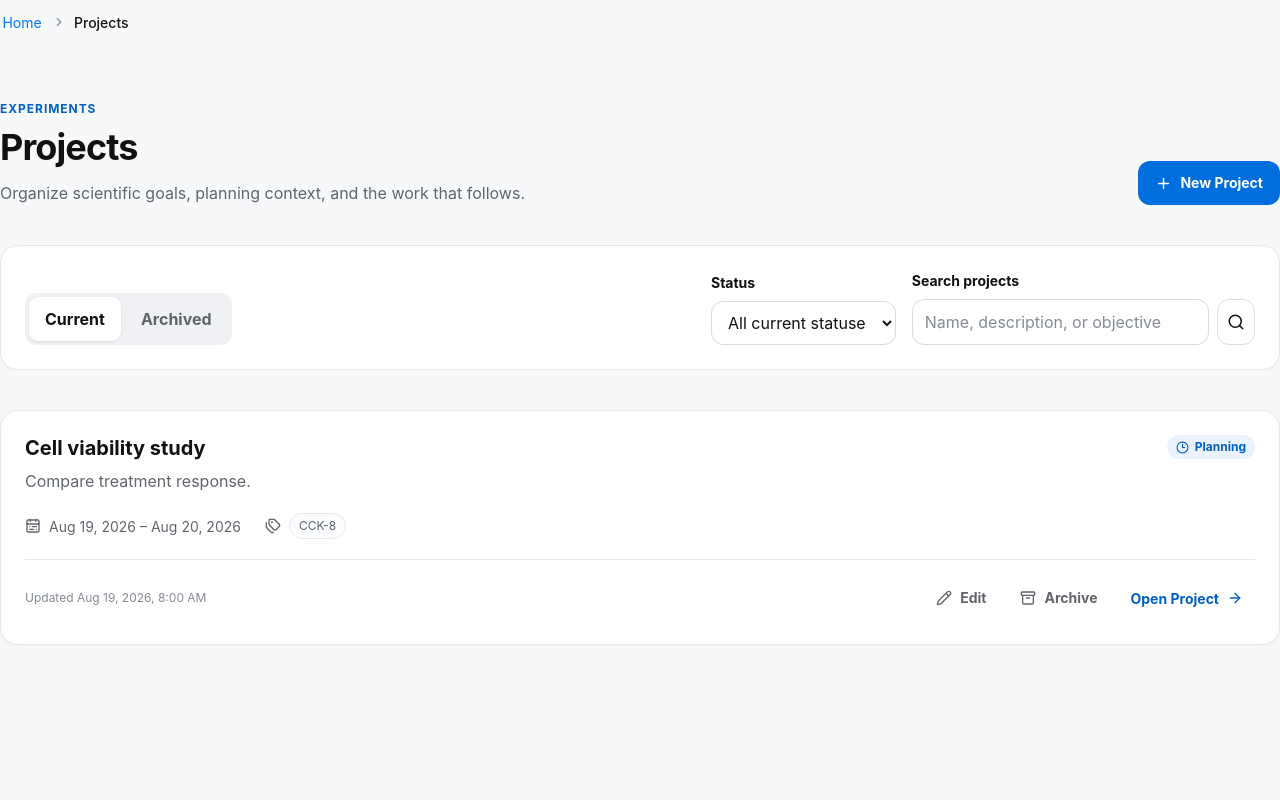
Test: ProjectsPage › edits a Project with its current revision
Expected: the heading "Cell viability study" is shown, left=25, top=435, right=206, bottom=461
Click the button "Edit": {"x": 961, "y": 598} left=923, top=576, right=1000, bottom=620
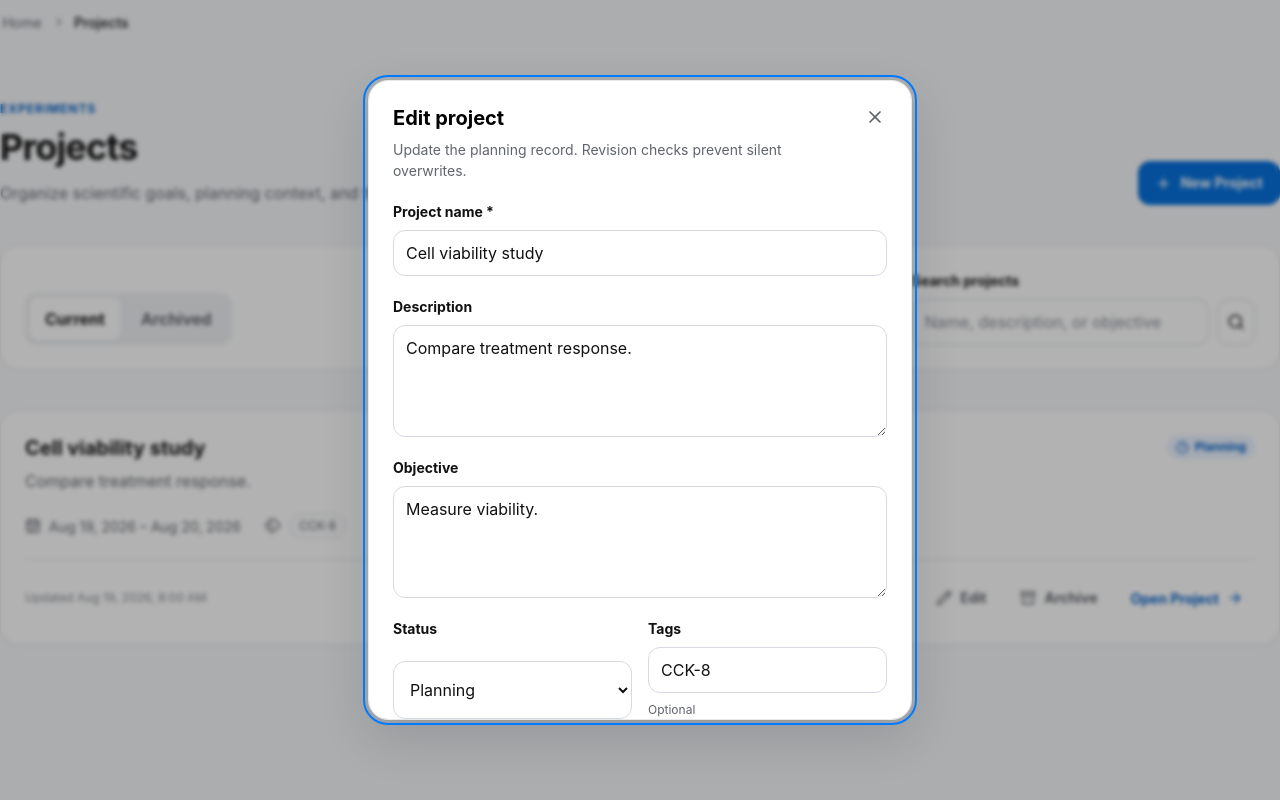
Replace the text in the field labelled "Project name *" with "Updated viability study": {"x": 640, "y": 253} left=393, top=230, right=887, bottom=276
(page scrolled)
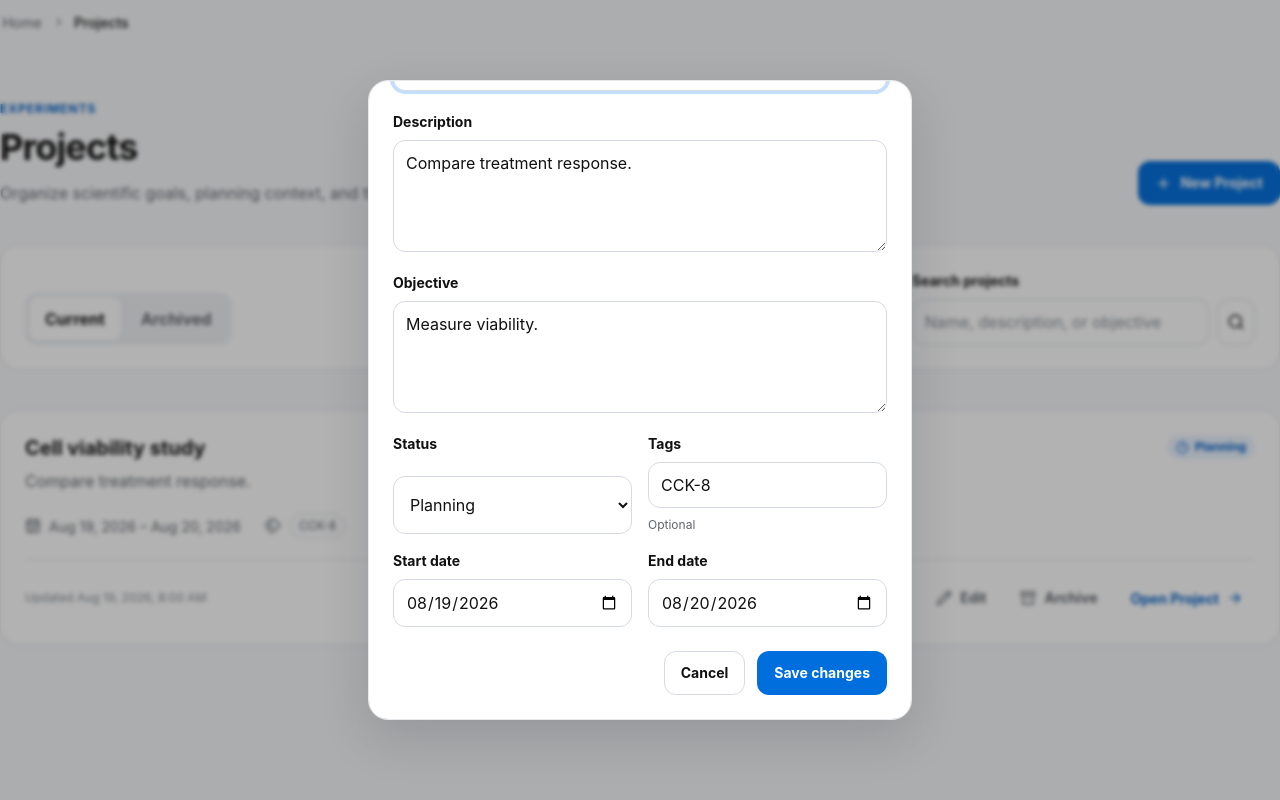
Click the button "Save changes": {"x": 822, "y": 673} left=757, top=651, right=887, bottom=695
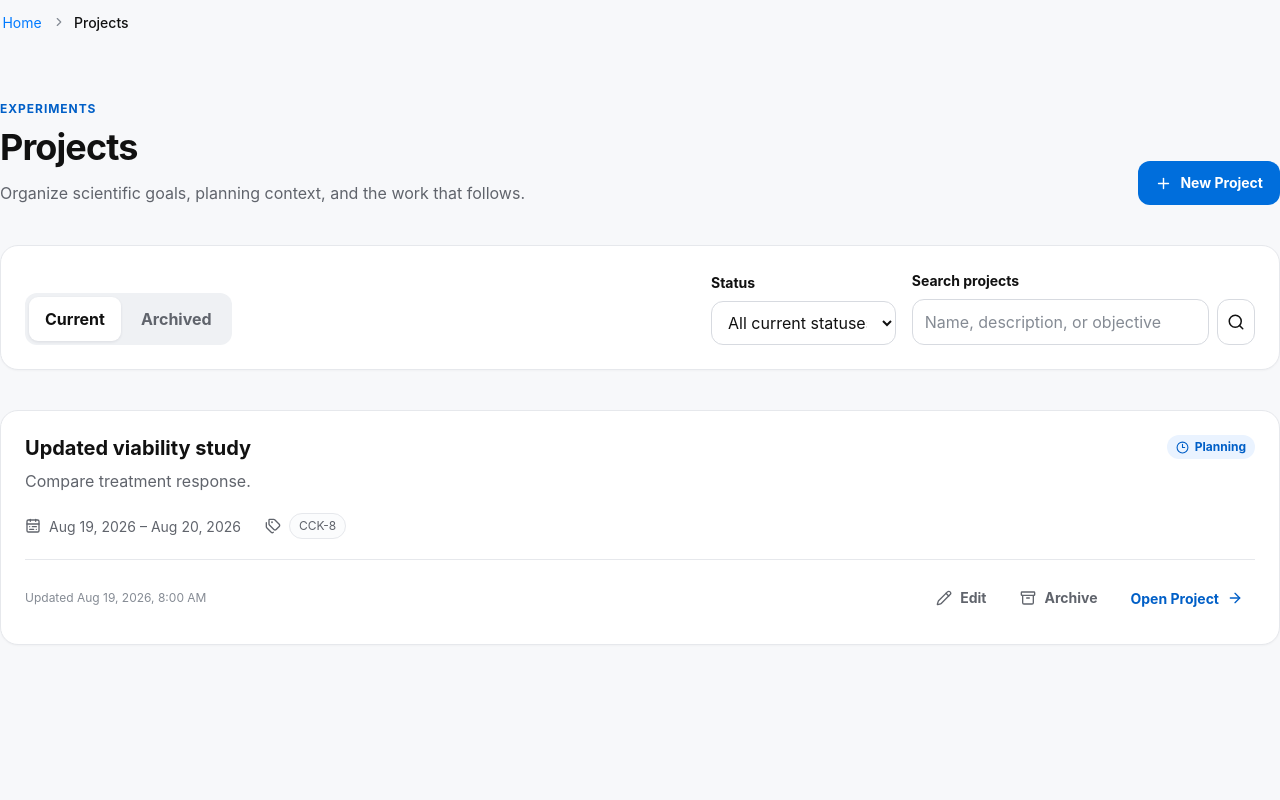
Now the heading "Updated viability study" is shown, box left=25, top=435, right=251, bottom=461
